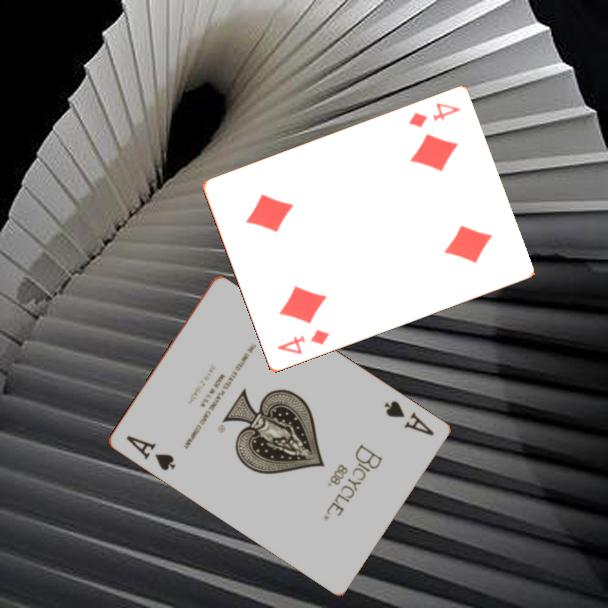d04: (404, 100, 464, 131), (274, 326, 332, 358)
s01: (381, 397, 438, 439), (123, 432, 179, 474)
